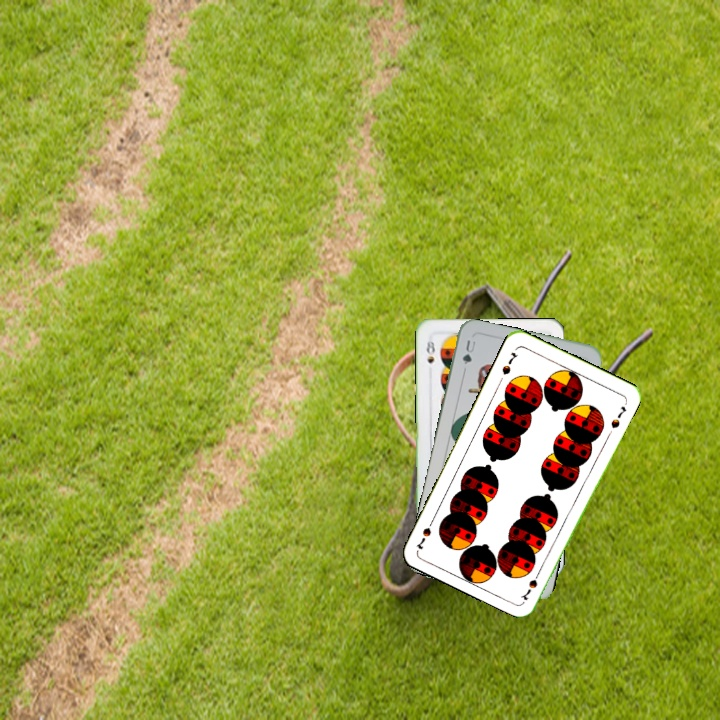GU: (458, 336, 478, 367)
S7: (518, 566, 543, 603), (498, 348, 521, 378)
S8: (422, 336, 438, 366)
